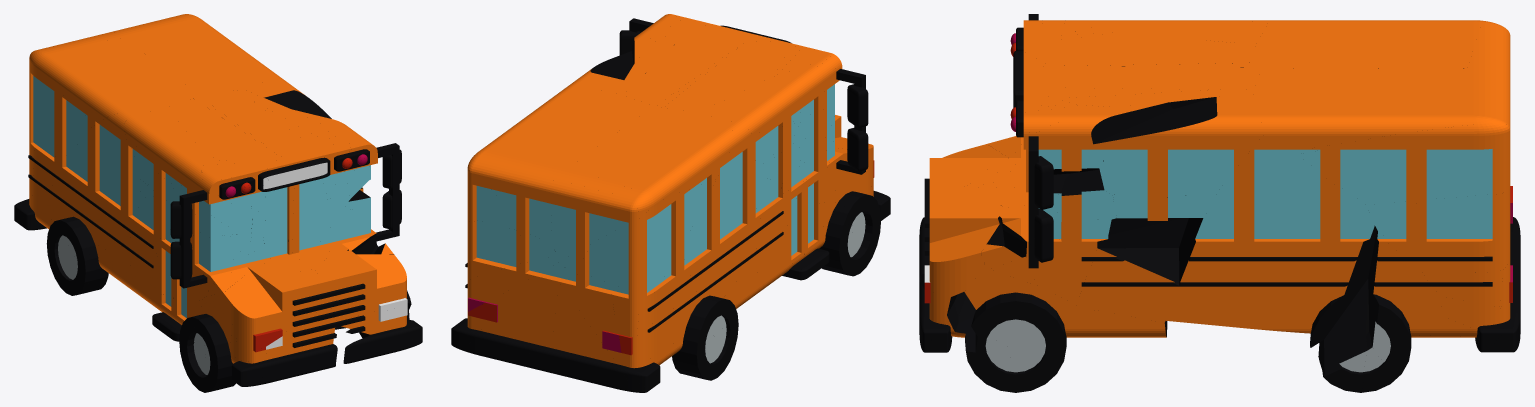
The model's file is bus_dopo.obj.
The picture shows the model from 3 angles, left to right: view 1: azimuth 30°, elevation 25°; view 2: azimuth 150°, elevation 25°; view 3: azimuth 270°, elevation 25°; orthographic projection. The views are drawn at different scales.
Parts seen in each view (by area): view 1: obj_0_cell.163, obj_0_cell.033, obj_0_cell.147, obj_0_cell.209, obj_0_cell.222, obj_0_cell.345, obj_0_cell.240, obj_0_cell.293, obj_0_cell.202, obj_0_cell.149, obj_0_cell.143, obj_0_cell.173 (+40 smaller); view 2: obj_0_cell.147, obj_0_cell.033, obj_0_cell.163, obj_0_cell.202, obj_0_cell.157, obj_0_cell.213, obj_0_cell.345, obj_0_cell.018, obj_0_cell.240, obj_0_cell.293, obj_0_cell.269, obj_0_cell.173 (+32 smaller); view 3: obj_0_cell.010, obj_0_cell.147, obj_0_cell.065, obj_0_cell.033, obj_0_cell.269, obj_0_cell.342, obj_0_cell.222, obj_0_cell.183, obj_0_cell.313, obj_0_cell.240, obj_0_cell.110, obj_0_cell.293 (+29 smaller).
Part boxes in pixels (x1,y1,x2,y2): obj_0_cell.163: [60, 106, 169, 255]; obj_0_cell.033: [34, 38, 200, 126]; obj_0_cell.147: [112, 14, 281, 95]; obj_0_cell.209: [231, 270, 331, 350]; obj_0_cell.222: [314, 250, 407, 320]; obj_0_cell.345: [124, 108, 203, 192]; obj_0_cell.240: [167, 99, 279, 182]; obj_0_cell.293: [200, 90, 323, 179]; obj_0_cell.202: [29, 64, 91, 156]; obj_0_cell.149: [266, 304, 337, 378]; obj_0_cell.143: [292, 174, 330, 271]; obj_0_cell.173: [129, 189, 166, 321]; obj_0_cell.147: [471, 85, 653, 241]; obj_0_cell.033: [568, 106, 734, 202]; obj_0_cell.163: [684, 112, 760, 318]; obj_0_cell.202: [561, 179, 716, 294]; obj_0_cell.157: [467, 262, 564, 358]; obj_0_cell.213: [547, 179, 639, 261]; obj_0_cell.345: [698, 66, 834, 134]; obj_0_cell.018: [546, 283, 628, 389]; obj_0_cell.240: [664, 40, 791, 112]; obj_0_cell.293: [622, 26, 755, 106]; obj_0_cell.269: [465, 220, 556, 280]; obj_0_cell.173: [756, 175, 805, 292]; obj_0_cell.010: [1166, 135, 1376, 347]; obj_0_cell.147: [1253, 68, 1510, 154]; obj_0_cell.065: [1296, 123, 1510, 204]; obj_0_cell.033: [1255, 20, 1482, 68]; obj_0_cell.269: [1366, 189, 1510, 272]; obj_0_cell.342: [1093, 92, 1263, 169]; obj_0_cell.222: [924, 187, 1004, 296]; obj_0_cell.183: [1368, 230, 1443, 369]; obj_0_cell.313: [1076, 248, 1179, 322]; obj_0_cell.240: [1019, 33, 1259, 65]; obj_0_cell.110: [964, 267, 1080, 350]; obj_0_cell.293: [1013, 66, 1262, 89].
Size of the model in its own units: 68.43 by 57.04 by 118.
